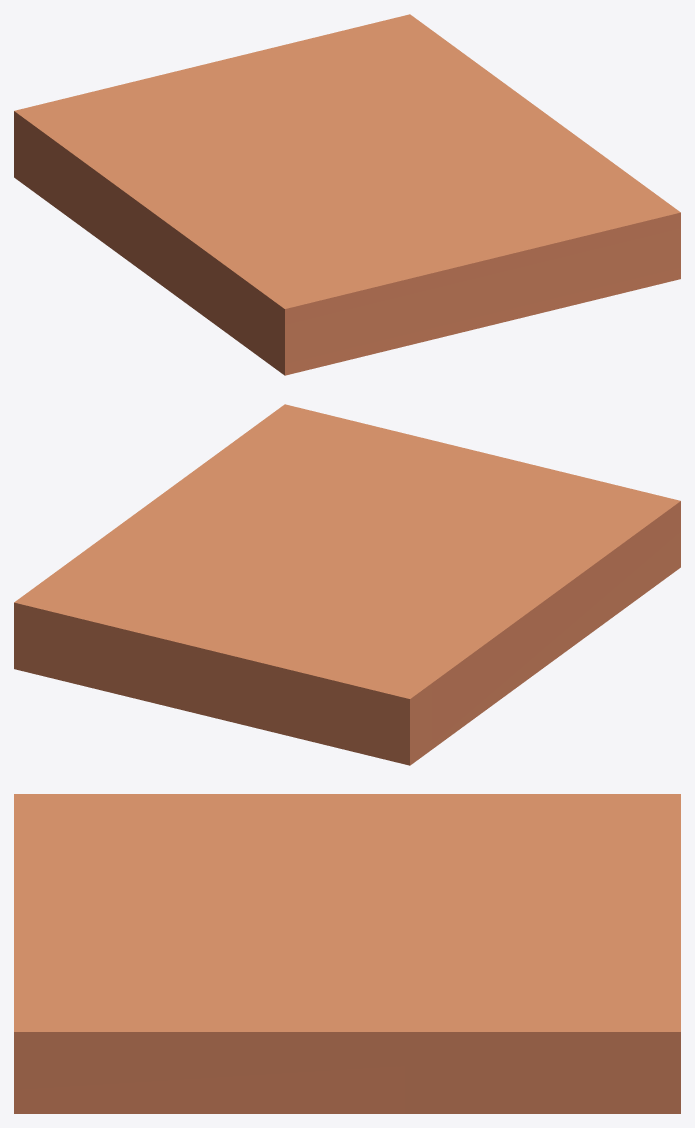
The model's file is ground.fbx.
The picture shows the model from 3 angles, top to bottom: view 1: azimuth 30°, elevation 25°; view 2: azimuth 150°, elevation 25°; view 3: azimuth 270°, elevation 25°; orthographic projection. The views are drawn at different scales.
Parts seen in each view (by area): view 1: floor; view 2: floor; view 3: floor.
Boxes of the visible parts, bbox=[...] form: floor: bbox=[14, 14, 680, 375]; floor: bbox=[14, 404, 680, 765]; floor: bbox=[14, 794, 680, 1113].
Size of the model in its own units: 137 by 22 by 162.
Materials: 1 (1 with a texture image).
